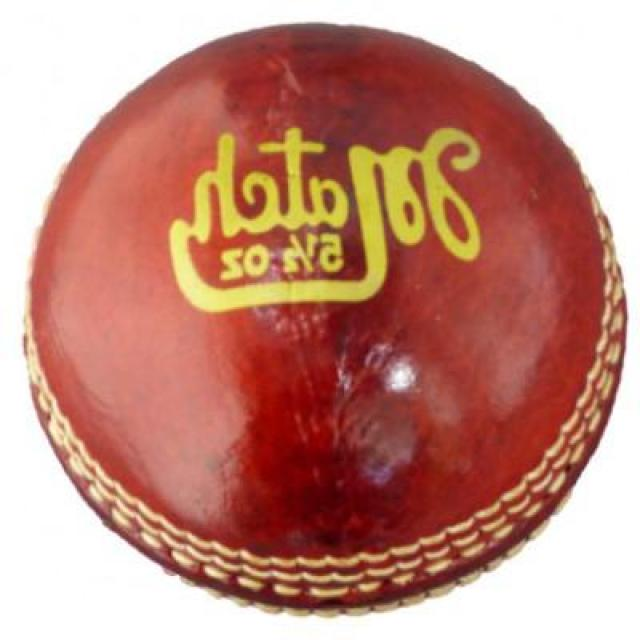ball: (21, 24, 622, 619)
